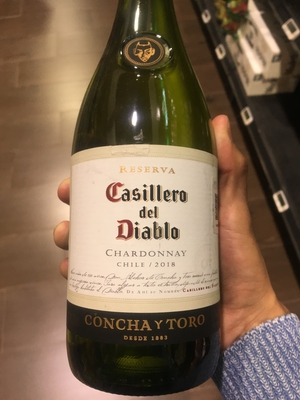casillero del diablo chardonnay: (64, 16, 231, 392)
